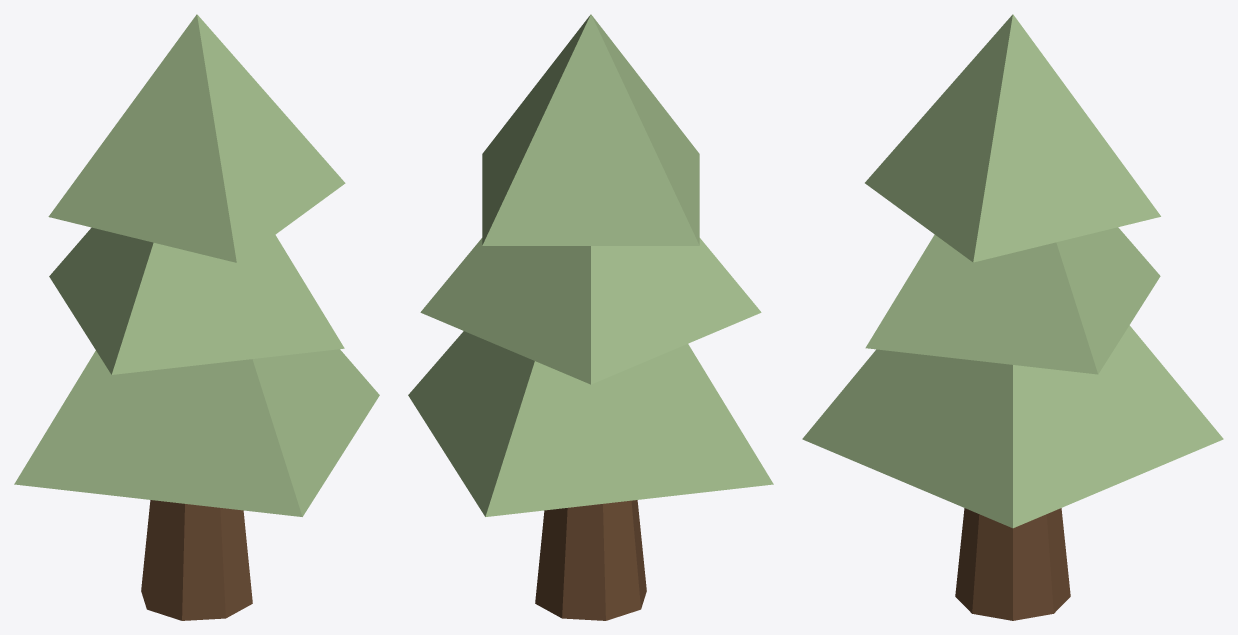
File: Isl_15_Tree_1.fbx
The picture shows the model from 3 angles, left to right: view 1: azimuth 30°, elevation 25°; view 2: azimuth 150°, elevation 25°; view 3: azimuth 270°, elevation 25°; orthographic projection.
Visible parts, largest first — view 1: Isl_15_Tree_1; view 2: Isl_15_Tree_1; view 3: Isl_15_Tree_1.
Part boxes in pixels (box(x1,y1,x2,y2)): Isl_15_Tree_1: box(14, 14, 379, 620); Isl_15_Tree_1: box(408, 14, 773, 620); Isl_15_Tree_1: box(802, 14, 1223, 620).
Bounding box in the file's own units: 315 × 315 × 481.
1 material, 1 textured.
